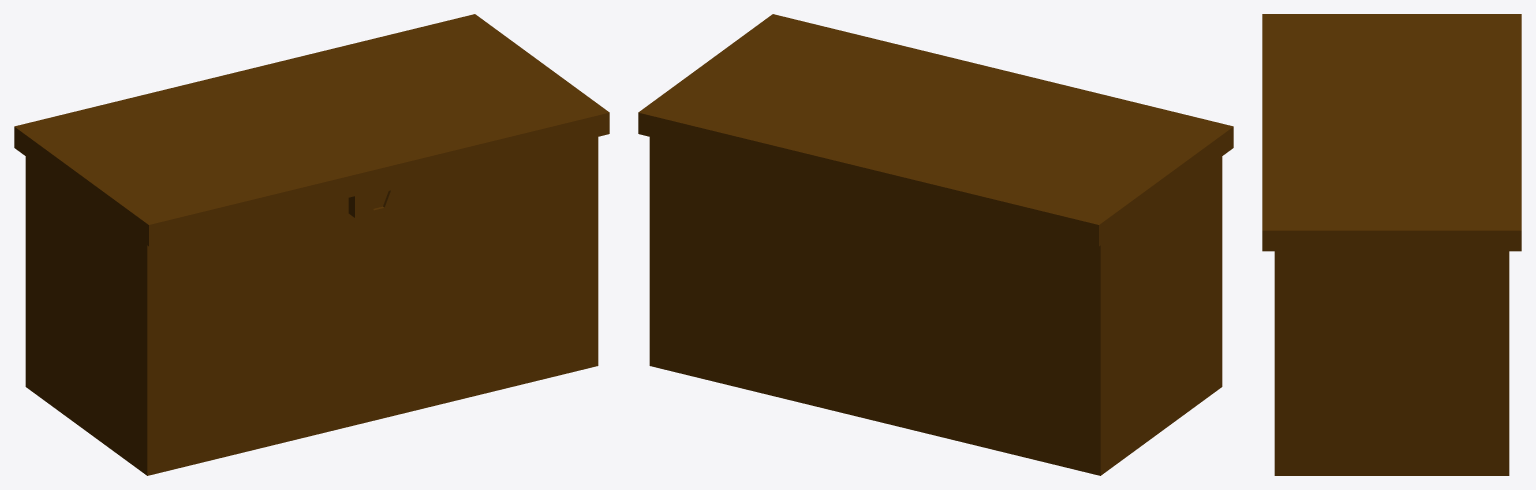
The model's file is Chest.glb.
3 renders of one model, left to right at view 1: azimuth 30°, elevation 25°; view 2: azimuth 150°, elevation 25°; view 3: azimuth 270°, elevation 25°, orthographic. The views are drawn at different scales.
Parts seen in each view (by area): view 1: Cube; view 2: Cube; view 3: Cube.
Boxes of the visible parts, x1,y1,x2,y2 form: Cube: (14,14,609,475); Cube: (638,14,1233,475); Cube: (1262,14,1521,475).
Size of the model in its own units: 2.72 by 1.45 by 1.38.
